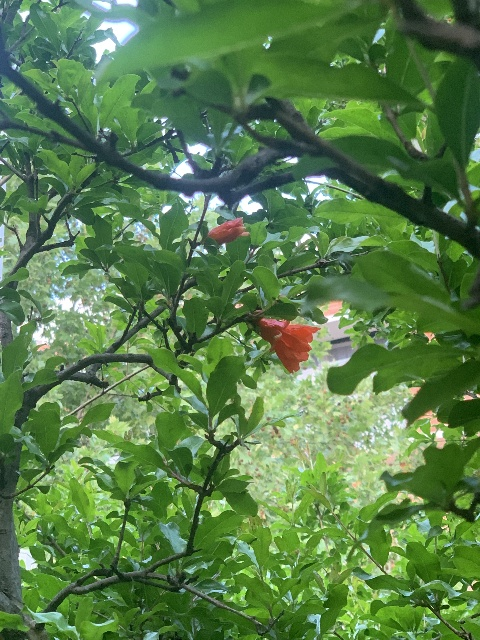flower: (256, 317, 319, 373), (207, 216, 250, 246)
